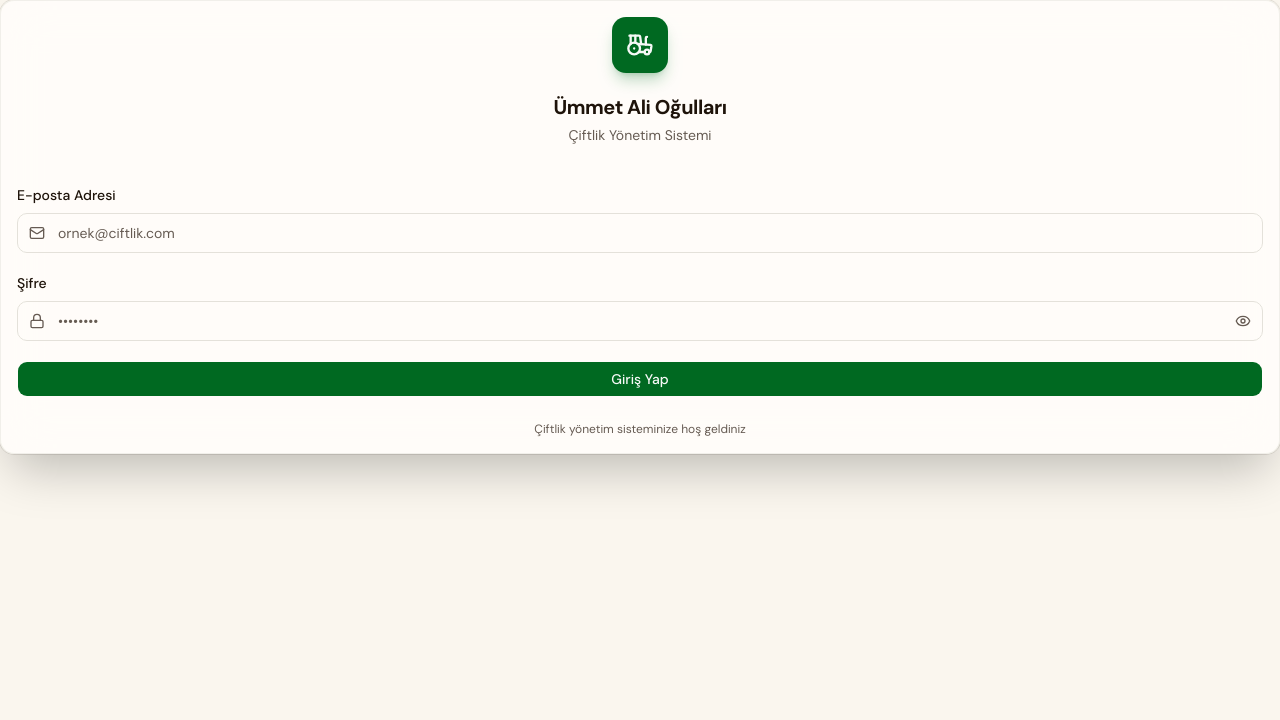
Scenario: Login Page › shows error message on failed login
Type "wrong@test.com" into the field with placeholder "ornek@ciftlik.com" at point(640, 233), box x1=17 y1=213 x2=1263 y2=253
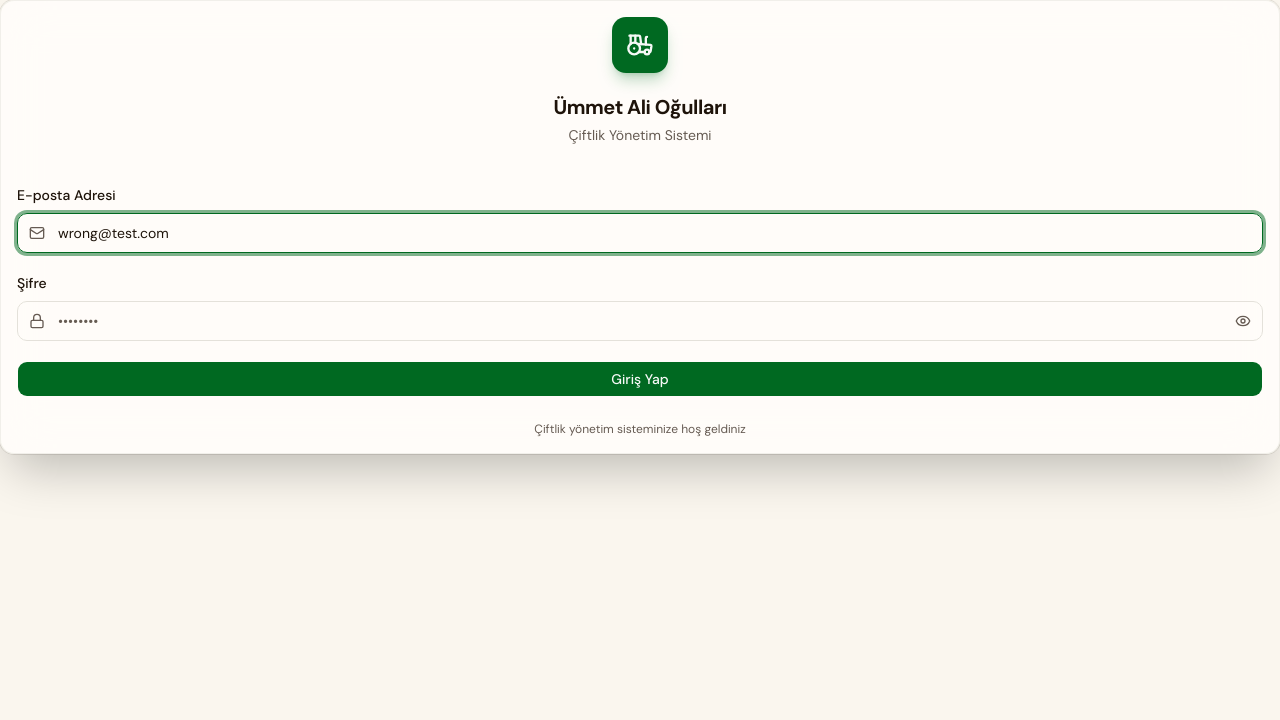
Type "wrongpass" into the password field with placeholder "••••••••" at point(640, 321), box x1=17 y1=301 x2=1263 y2=341
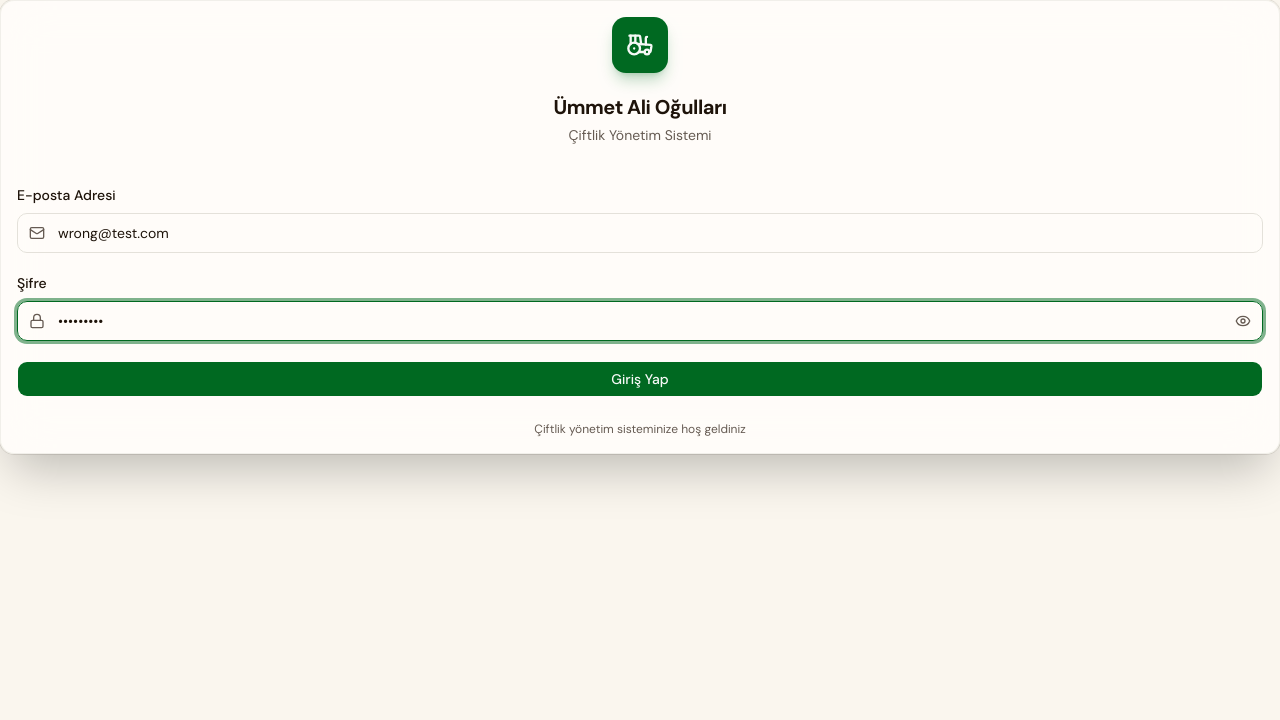
Click the button "Giriş Yap" at point(640, 379), box x1=17 y1=361 x2=1263 y2=397
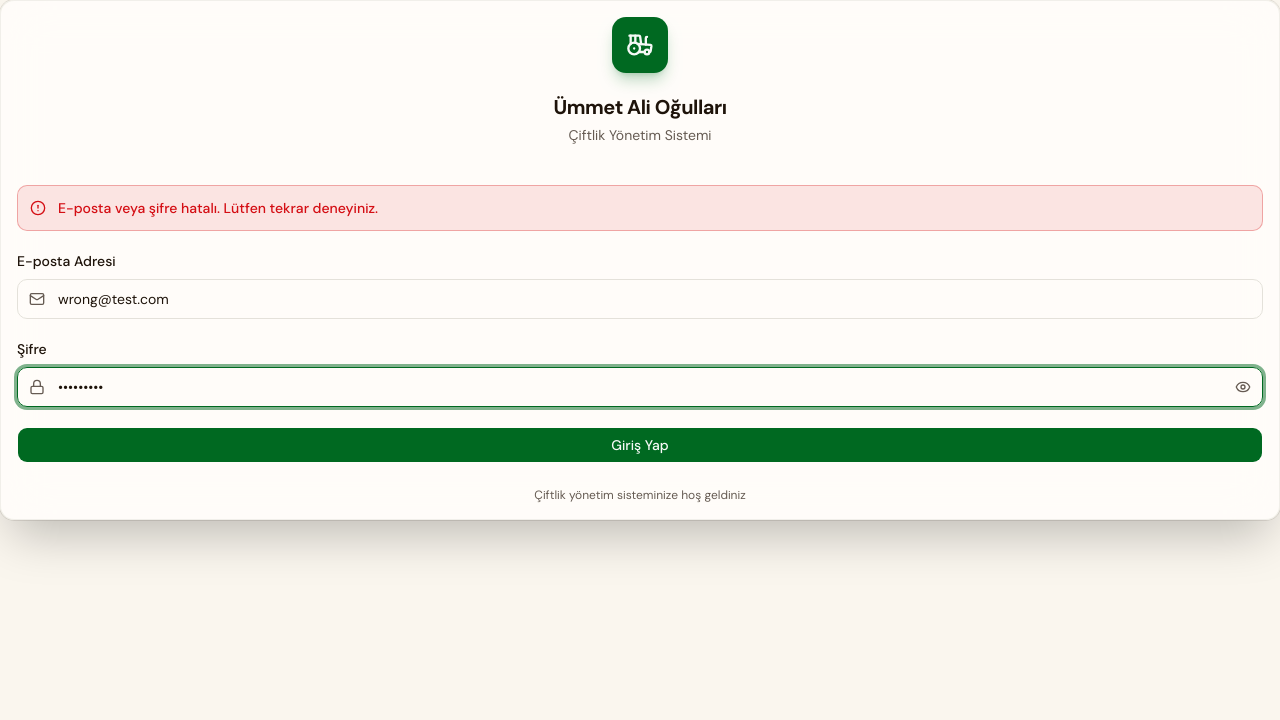
Result: the text "E-posta veya şifre hatalı. Lütfen tekrar deneyiniz." is shown at x1=58 y1=198 x2=378 y2=218
